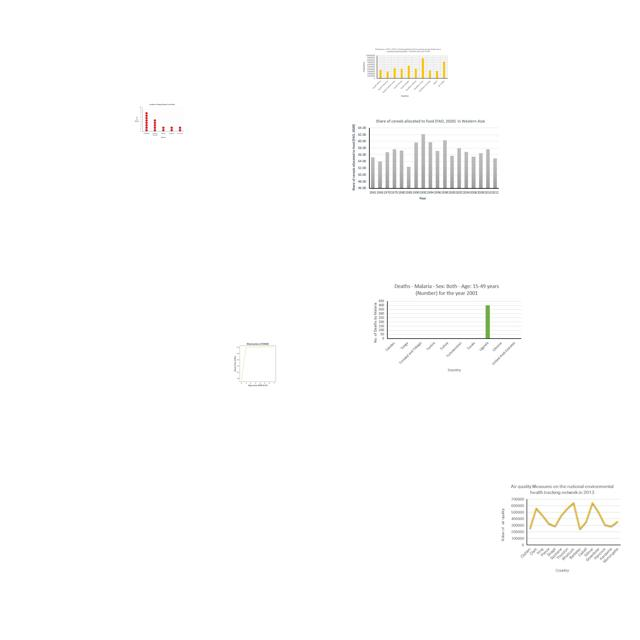Graph: (370, 282, 523, 373), (349, 116, 503, 201), (498, 482, 625, 574), (362, 47, 449, 98), (226, 340, 288, 387), (134, 103, 184, 139)
